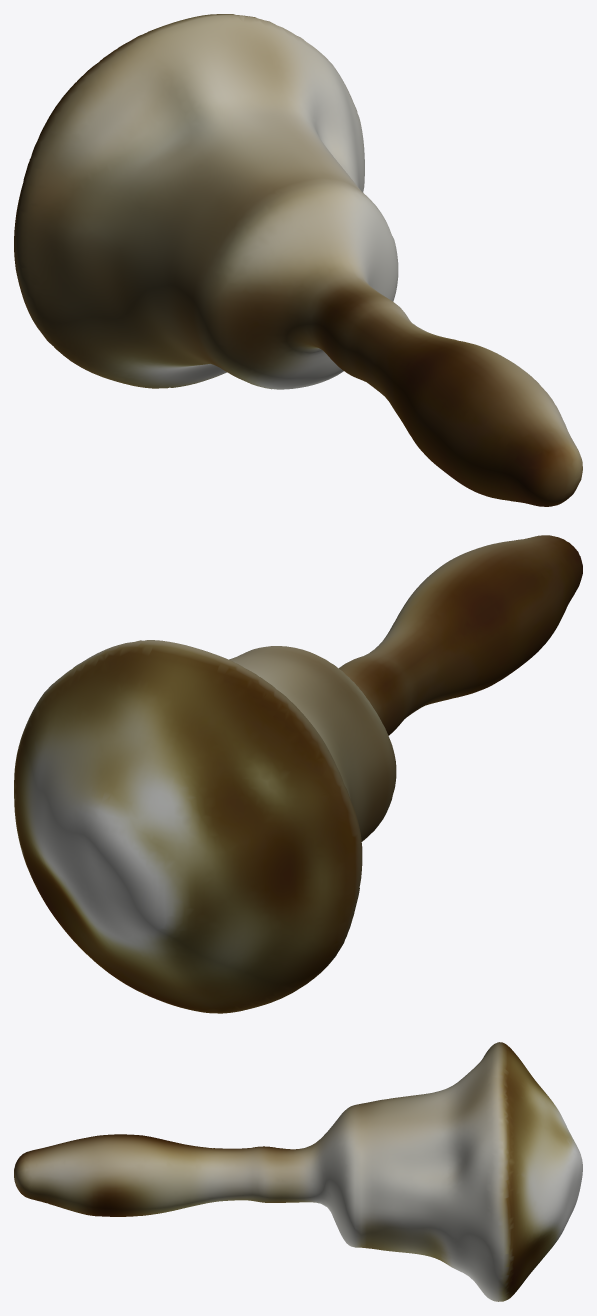
File: bell.glb
The picture shows the model from 3 angles, top to bottom: view 1: azimuth 30°, elevation 25°; view 2: azimuth 150°, elevation 25°; view 3: azimuth 270°, elevation 25°; orthographic projection. The views are drawn at different scales.
Size of the model in its own units: 0.4545 by 0.4539 by 0.9993.
